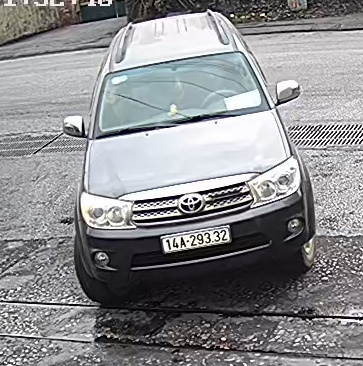vehicle plate: (158, 225, 233, 258)
